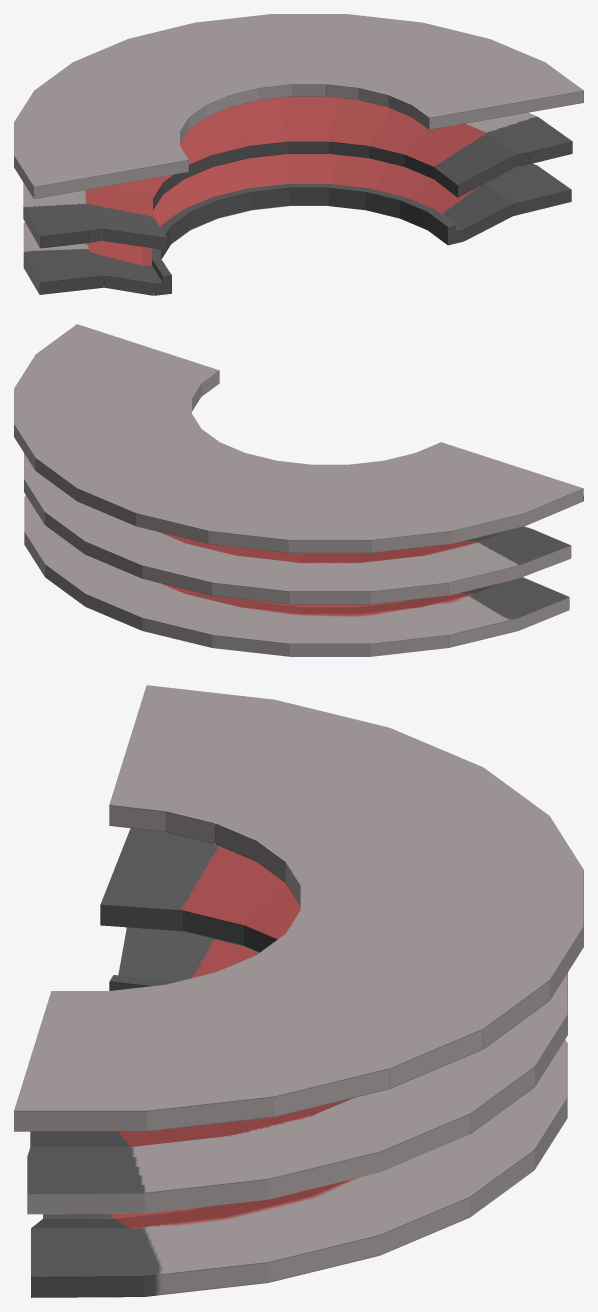
Rendered from crowd.fbx.
3 views of the same model, one above another, from view 1: azimuth 30°, elevation 25°; view 2: azimuth 150°, elevation 25°; view 3: azimuth 270°, elevation 25° (orthographic). The views are drawn at different scales.
Parts seen in each view (by area): view 1: tube_2, tube_1, tube; view 2: tube_2, tube, tube_1; view 3: tube_2, tube_1, tube.
Part boxes in pixels (bbox=[...]): tube_2: bbox=[14, 14, 583, 198]; tube_1: bbox=[23, 96, 572, 249]; tube: bbox=[23, 154, 571, 295]; tube_2: bbox=[14, 324, 583, 552]; tube: bbox=[24, 495, 569, 656]; tube_1: bbox=[24, 453, 571, 604]; tube_2: bbox=[14, 685, 583, 1131]; tube_1: bbox=[27, 828, 567, 1214]; tube: bbox=[31, 927, 567, 1297].
Bounding box in the file's own units: 2189 × 531 × 1238.
1 material, 1 textured.
